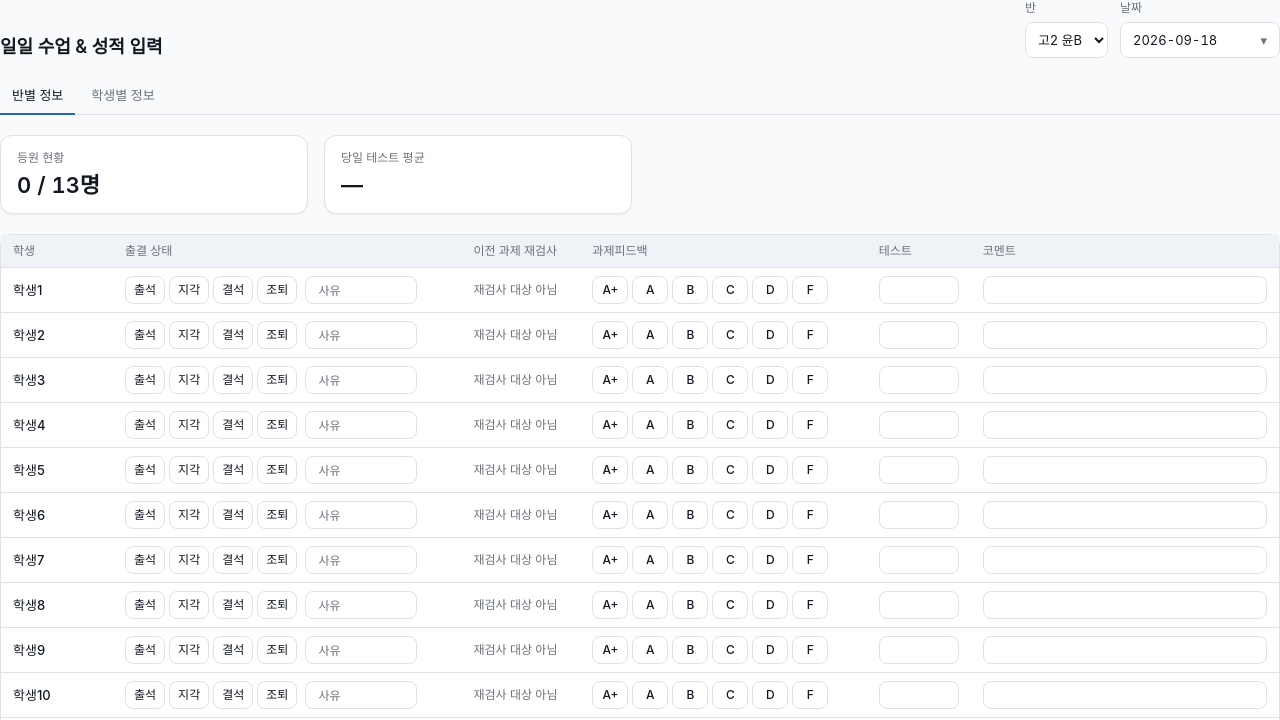
Scenario: opens a month calendar that emphasizes timetable weekdays and recorded days
Expected: the row "학생1 출석 지각 결석 조퇴 재검사 대상 아님 A+ A B C D F" is shown, [1,268,1279,313]
What coordinates should you click on to do the following:
click the button named "날짜"
I would click on:
 (1200, 40)
Its box is [1120,22,1279,58].
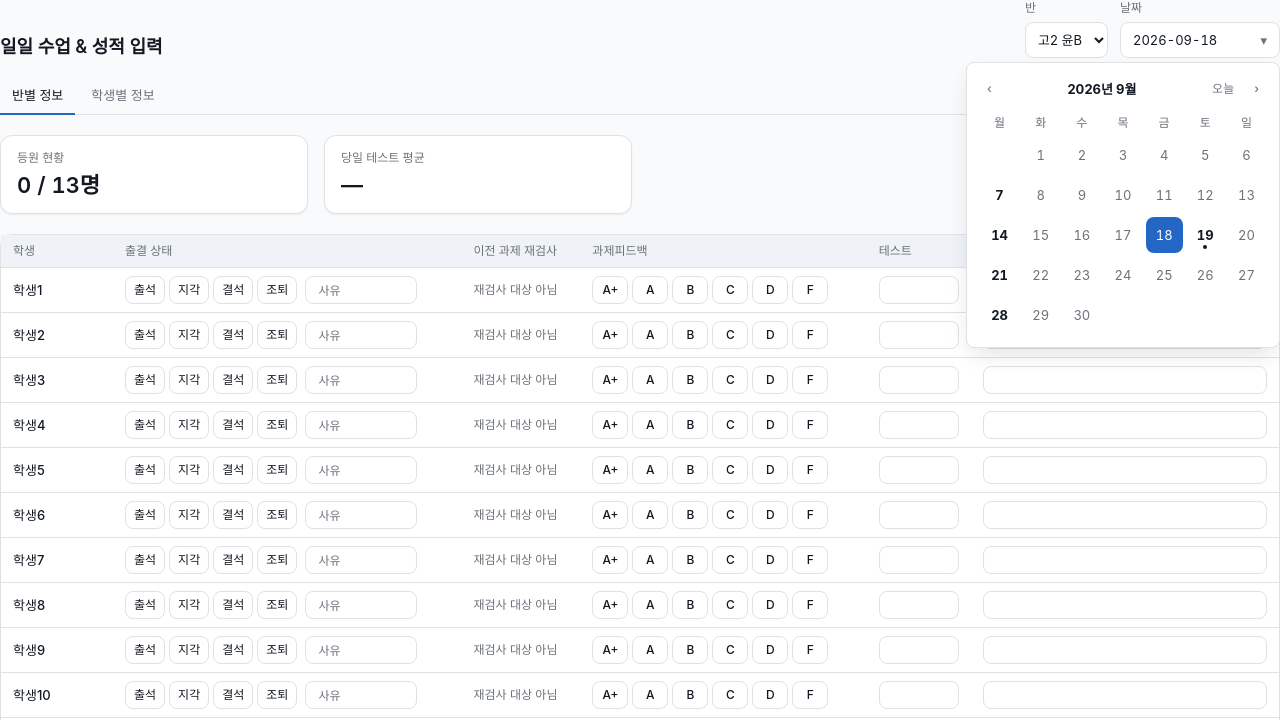
What coordinates should you click on to do the following:
click the button named "9월 21일 수업일"
I would click on:
 (1000, 275)
Its box is [981,257,1018,293].
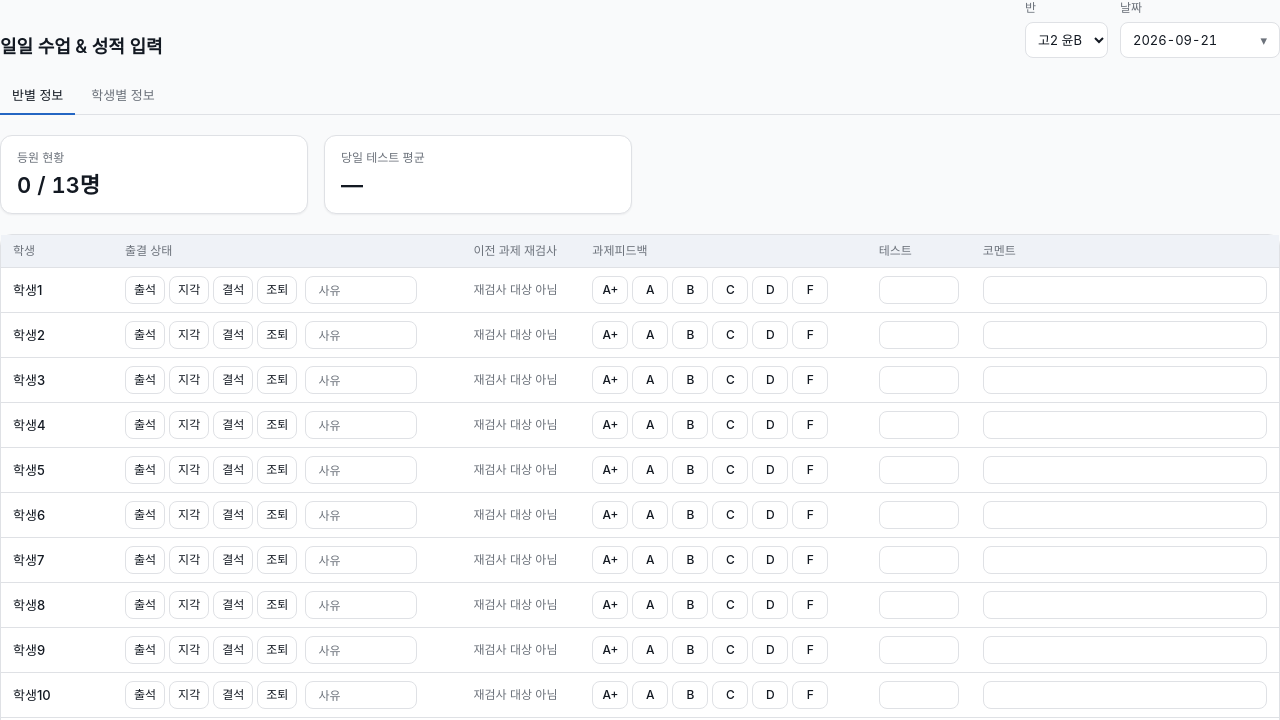
Expected: the button named "날짜" shows "2026-09-21", [1120,22,1279,58]
